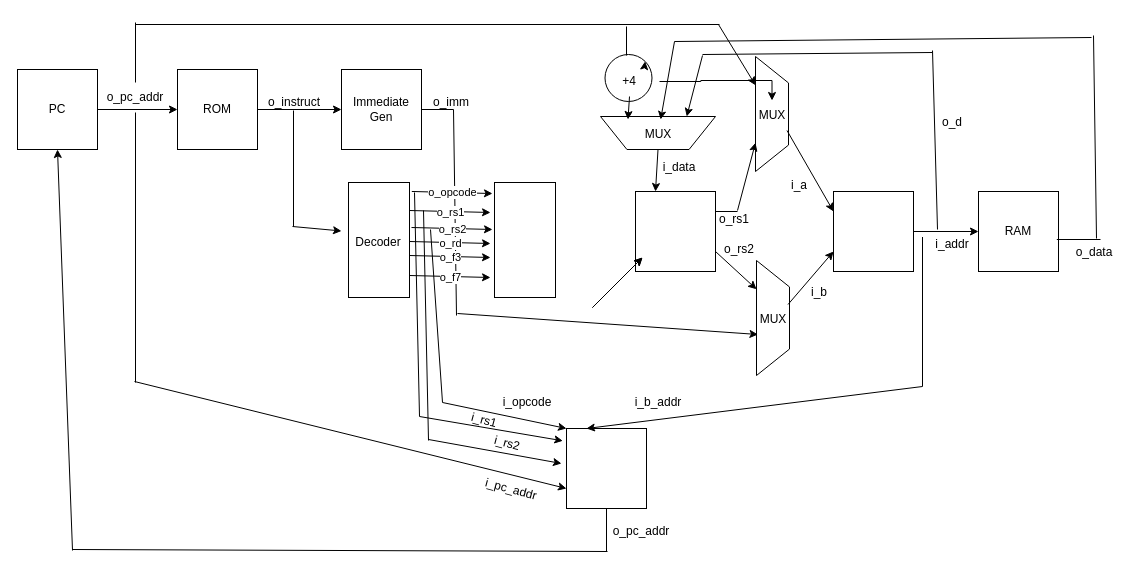
Image size: 1142x576. Some labels were removed from this diagram. The centre of each missing label's shape, as x and y in pixels:
ALU: (873,231)
Branch Logic: (606,468)
Control unit: (525,240)
Register File: (675,231)
